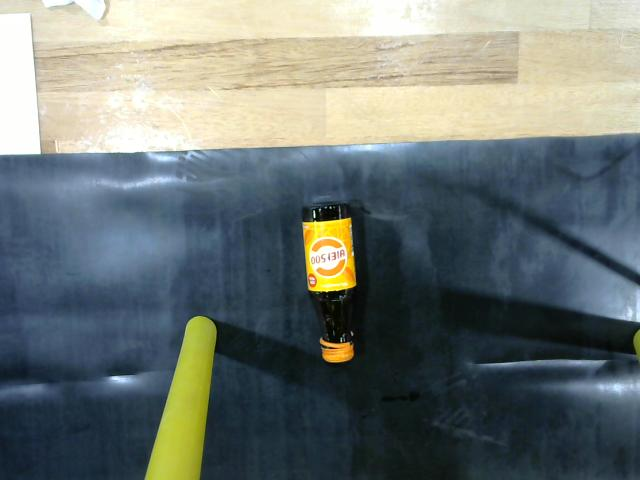glass: (299, 199, 374, 375)
